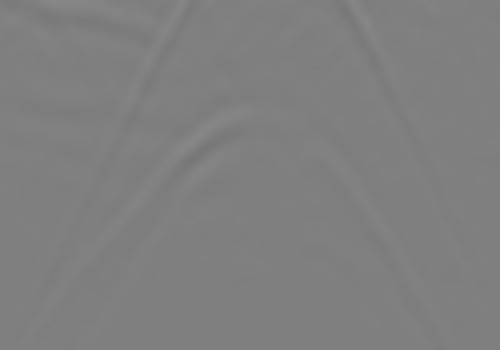hyperbola: (97, 104, 407, 304)
